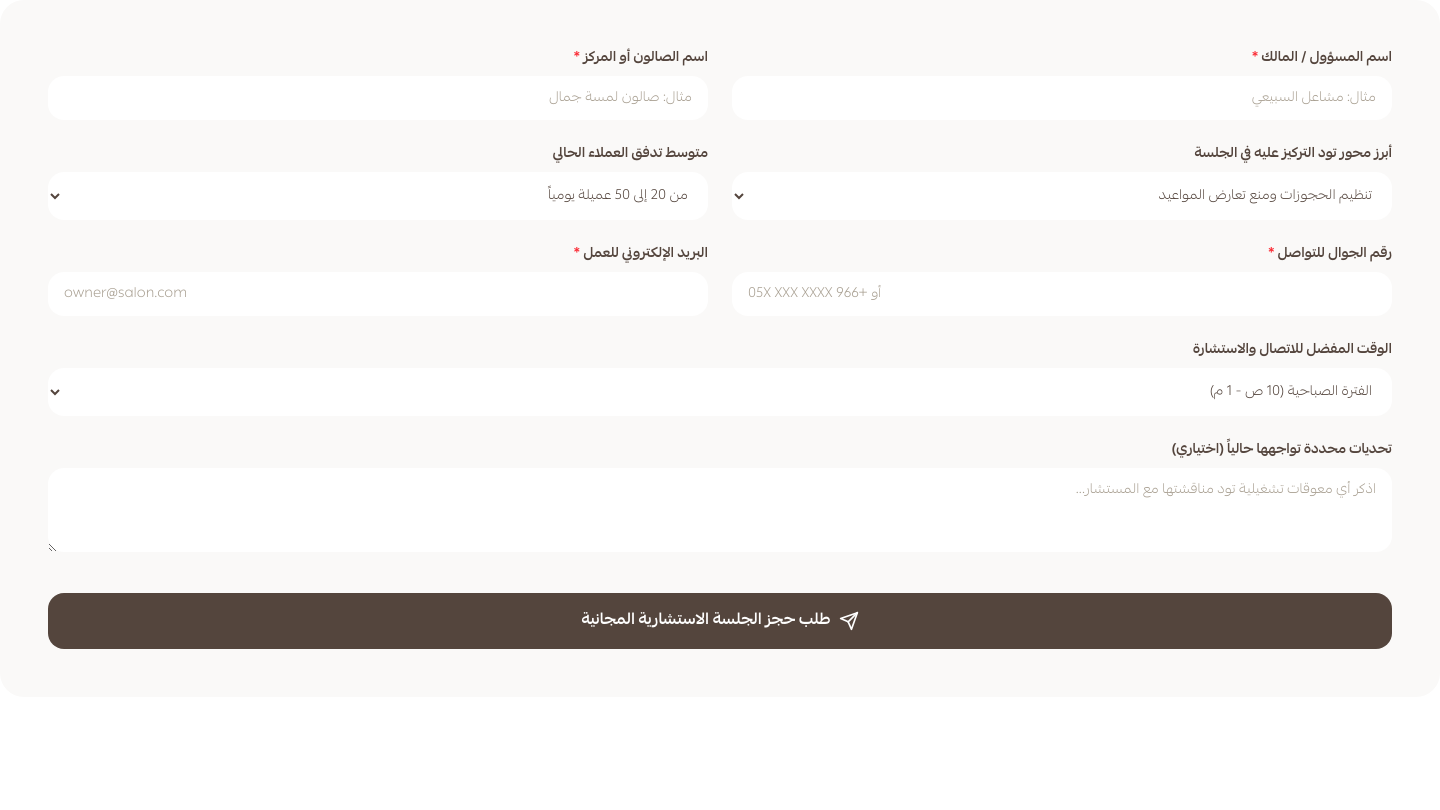
RASHX Public Pages & Conversion Forms Suite › Consultation Form (/consultation) › validates required fields
This screenshot has width=1440, height=810.
Step 1. Click the button "طلب حجز الجلسة الاستشارية المجانية" → (720, 621), box [48,593,1392,649]
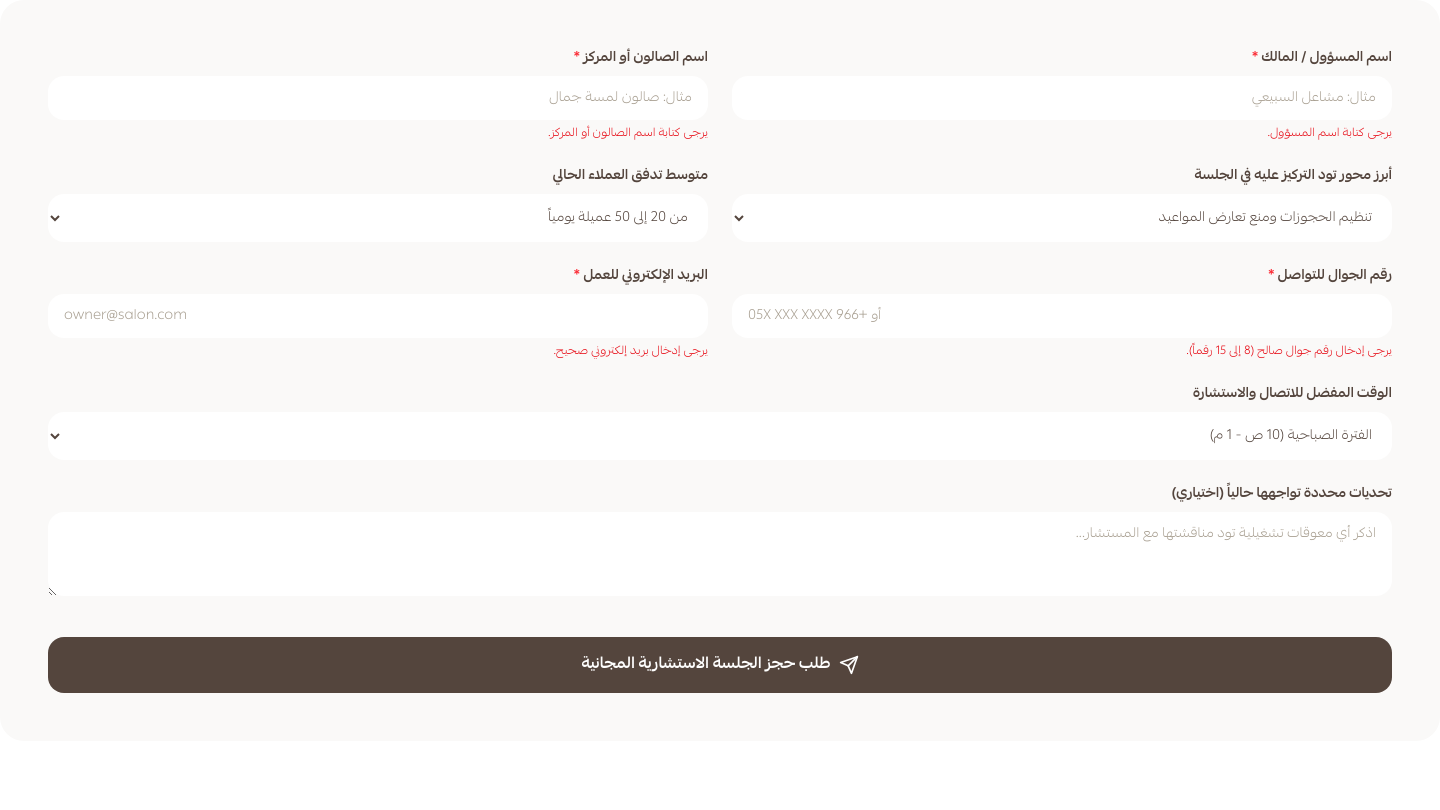
Expected: the text "يرجى كتابة اسم المسؤول." is shown, [1268,124,1392,143]
Expected: the text "يرجى كتابة اسم الصالون أو المركز." is shown, [548,124,708,143]
